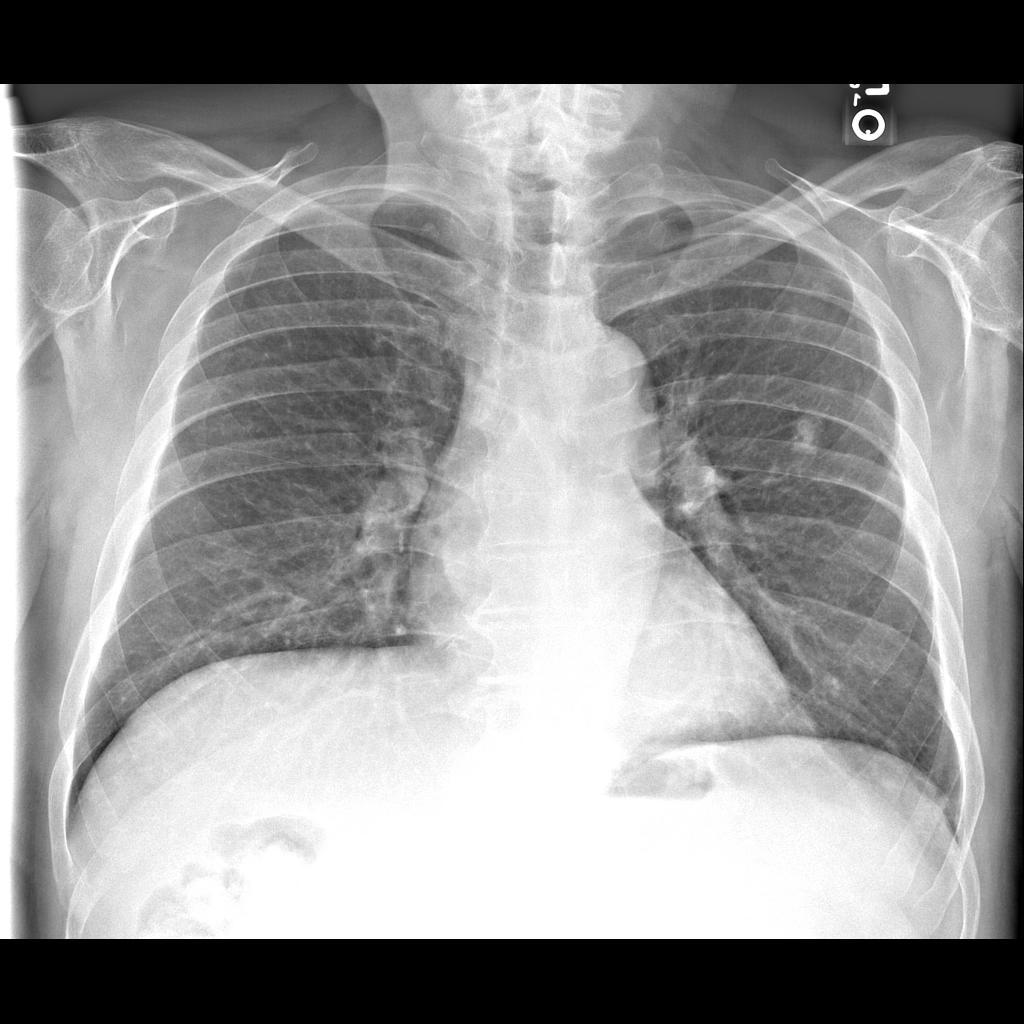Nodule: (793, 415, 824, 454)
